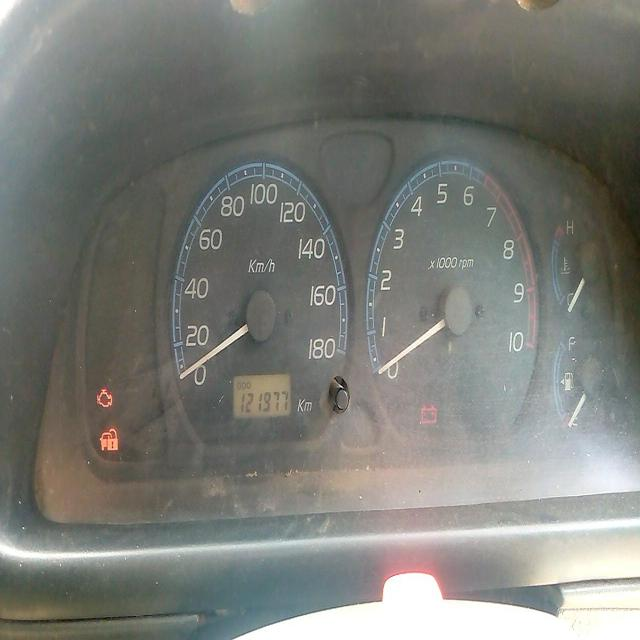odometer: (238, 386, 290, 416)
